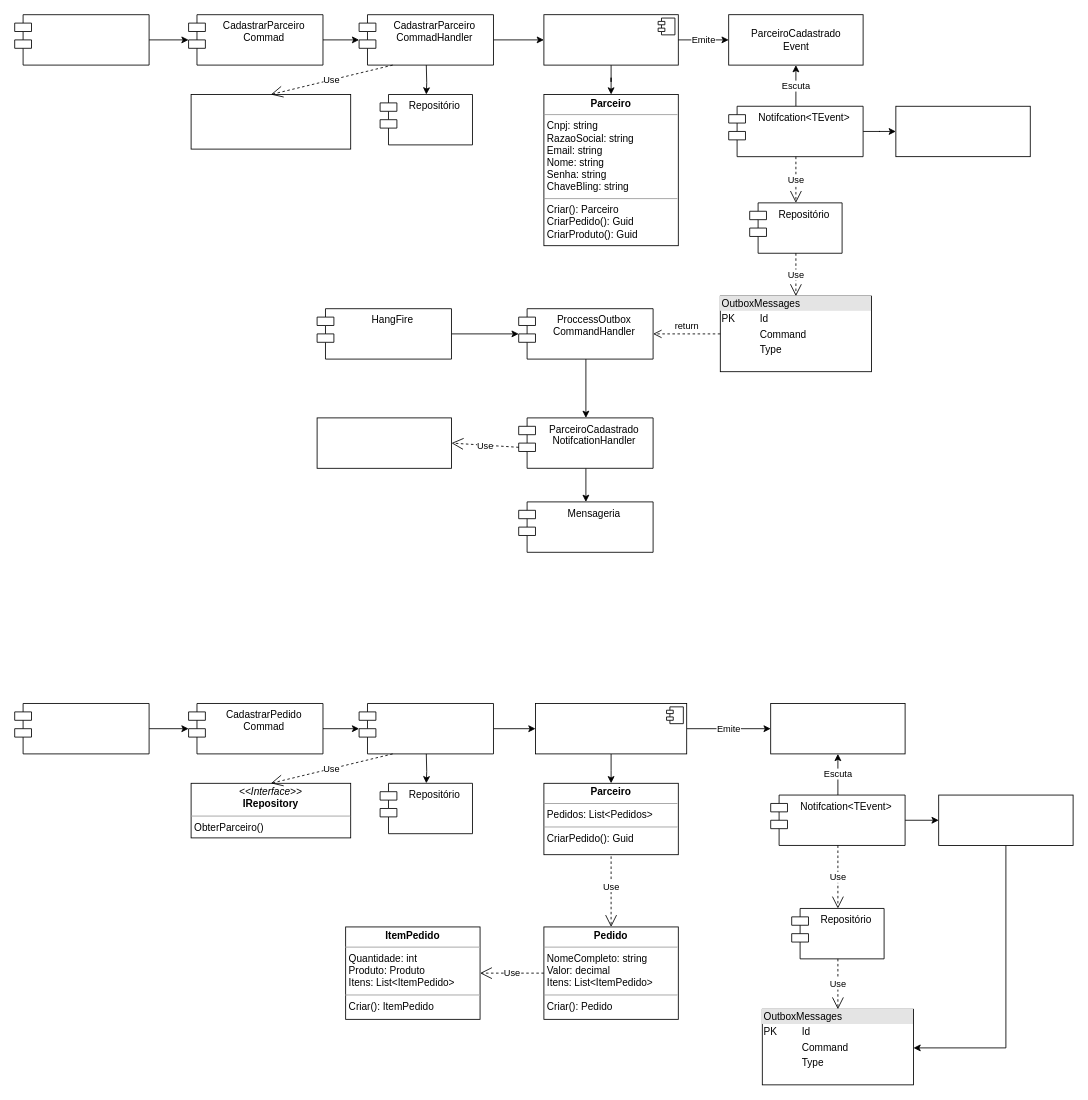
Some shapes in this 1088 by 1100 pixel diagram are drawn without their labels. Each missing label, with the centre of its shape:
"<<Interface>> IRepository CriarParceiro()" belongs at point 270,121.
"CadastrarPedido CommadHandler" belongs at point 426,728.
"Endpoint CadastrarParceiro" belongs at point 81,39.
"Endpoint CadastrarPedido" belongs at point 81,728.
"Parceiro Criar(params): Parceiro" belongs at point 610,39.
"Parceiro CriarPedido(params): Pedido" belongs at point 611,728.
"ParceiroCadastrado Notification" belongs at point 962,131.
"PedidoCadastrado Event" belongs at point 837,728.
"PedidoCadastrado EventMessage" belongs at point 1005,819.
"«interface» IMessageBus" belongs at point 384,442.
